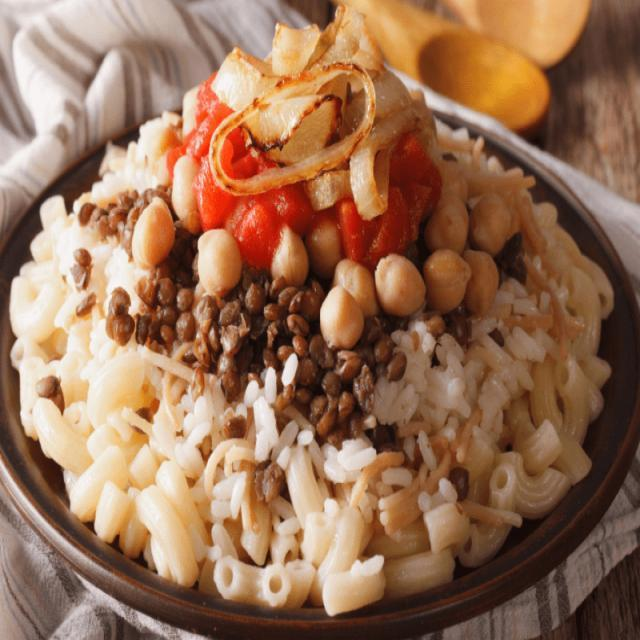koshary: (22, 89, 616, 605)
